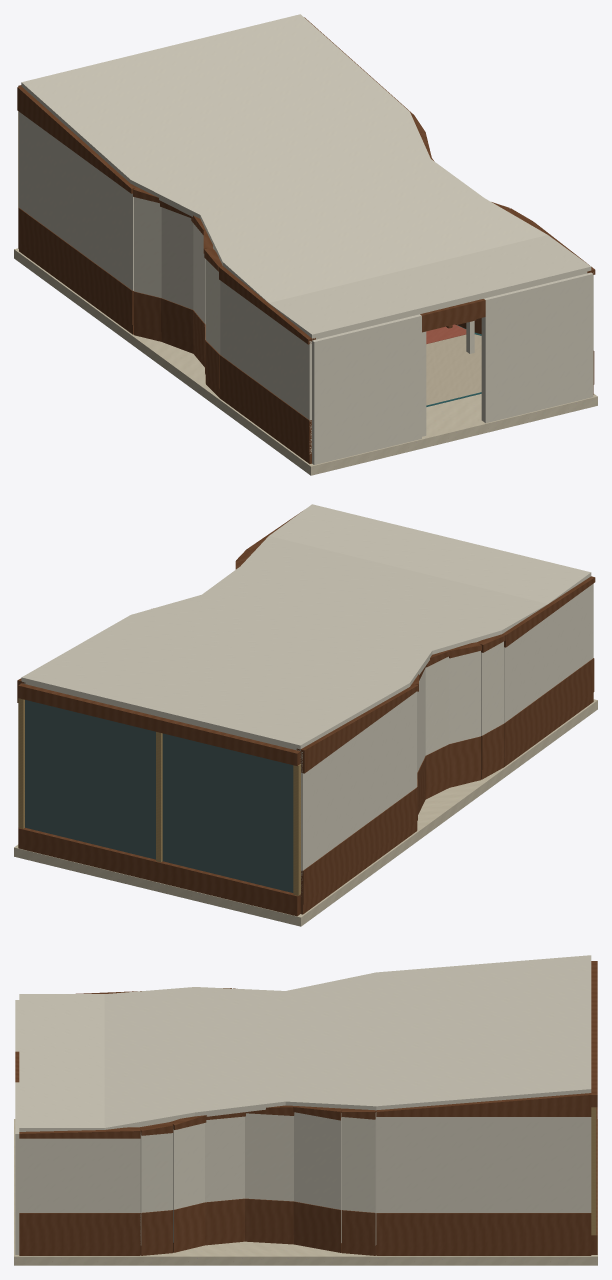
Rendered from NG_r001__family__nested_gallery__R.glb.
3 views of the same model, one above another, from view 1: azimuth 30°, elevation 25°; view 2: azimuth 150°, elevation 25°; view 3: azimuth 270°, elevation 25° (orthographic).
Visible parts, largest first — view 1: NIGHT_GARDENRoomBatch_2, NIGHT_GARDENRoomBatch_1, NIGHT_GARDENRoomBatch_0, NIGHT_GARDENRoomBatch_3; view 2: NIGHT_GARDENRoomBatch_2, NIGHT_GARDENRoomBatch_6, NIGHT_GARDENRoomBatch_1, NIGHT_GARDENRoomBatch_0, NIGHT_GARDENRoomBatch_5; view 3: NIGHT_GARDENRoomBatch_2, NIGHT_GARDENRoomBatch_1, NIGHT_GARDENRoomBatch_0, NIGHT_GARDENRoomBatch_5.
Part boxes in pixels (x1,y1,x2,y2): NIGHT_GARDENRoomBatch_2: [19, 14, 593, 464]; NIGHT_GARDENRoomBatch_1: [17, 17, 595, 463]; NIGHT_GARDENRoomBatch_0: [14, 248, 597, 475]; NIGHT_GARDENRoomBatch_3: [213, 248, 481, 405]; NIGHT_GARDENRoomBatch_2: [21, 504, 593, 885]; NIGHT_GARDENRoomBatch_6: [25, 700, 293, 892]; NIGHT_GARDENRoomBatch_1: [17, 511, 595, 916]; NIGHT_GARDENRoomBatch_0: [14, 699, 597, 926]; NIGHT_GARDENRoomBatch_5: [18, 698, 300, 895]; NIGHT_GARDENRoomBatch_2: [15, 955, 591, 1254]; NIGHT_GARDENRoomBatch_1: [15, 961, 597, 1255]; NIGHT_GARDENRoomBatch_0: [14, 1119, 597, 1265]; NIGHT_GARDENRoomBatch_5: [591, 1107, 596, 1235].
Size of the model in its own units: 7.2 by 4.26 by 12.9.
Materials: 70 (63 with a texture image).
